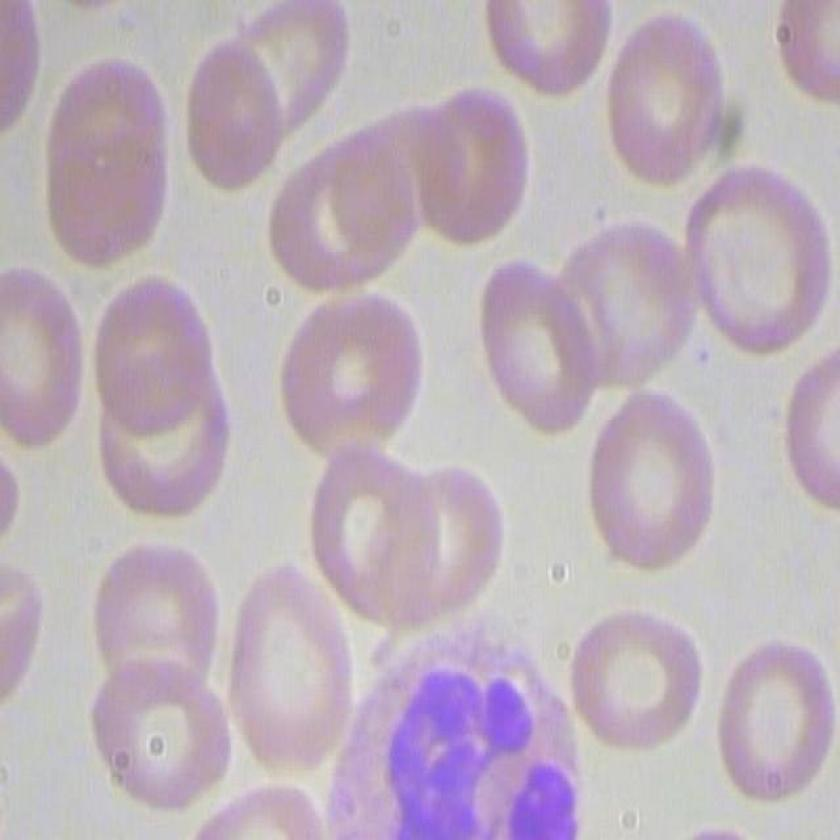neutrophil: (311, 643, 584, 840)
